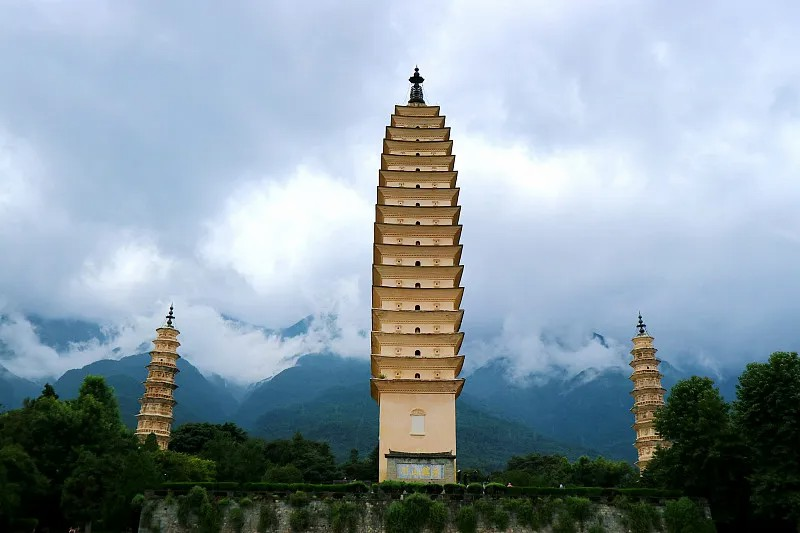ThreePagoda: (370, 67, 466, 484)
